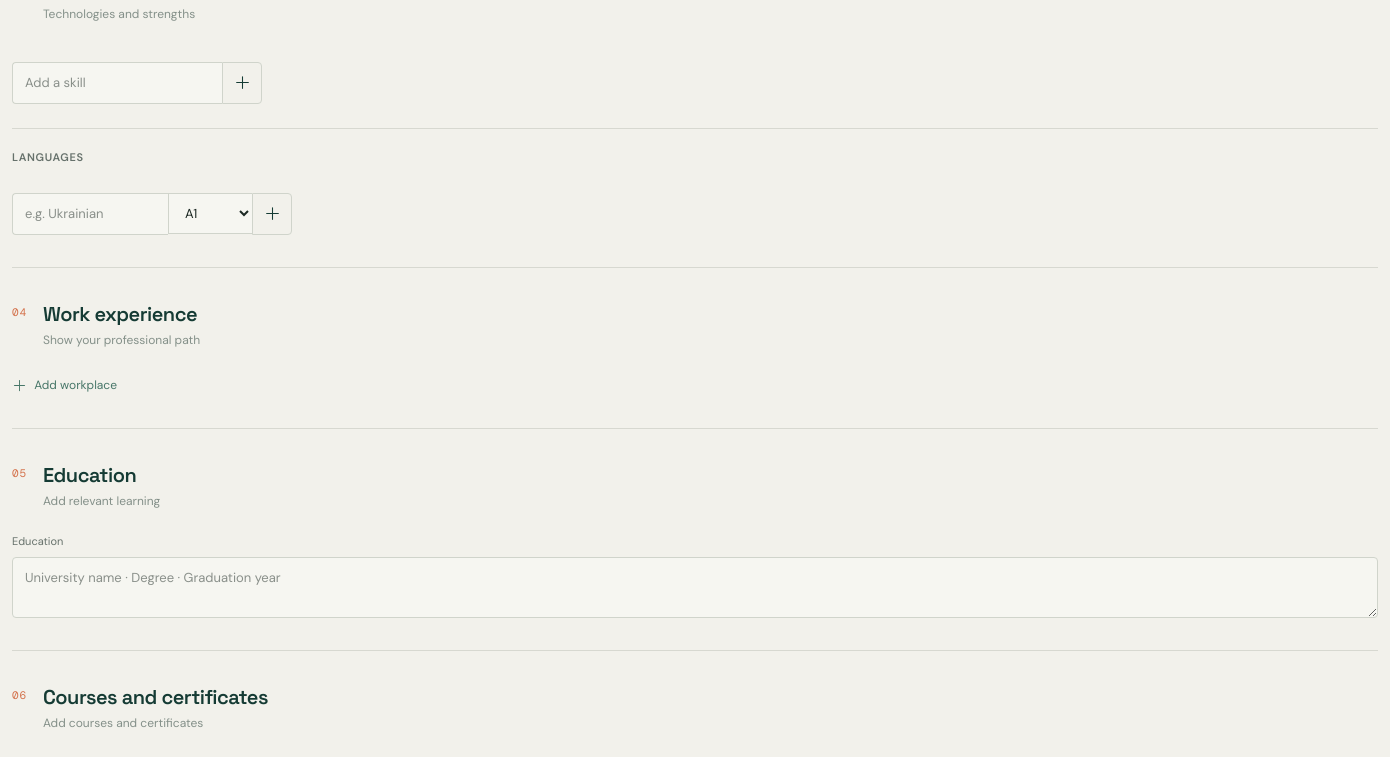
Test: ResumeForm - work experience › adds a new, empty workplace entry
(page scrolled)
Click the button "Add workplace" at (64, 385), box [12, 376, 117, 393]
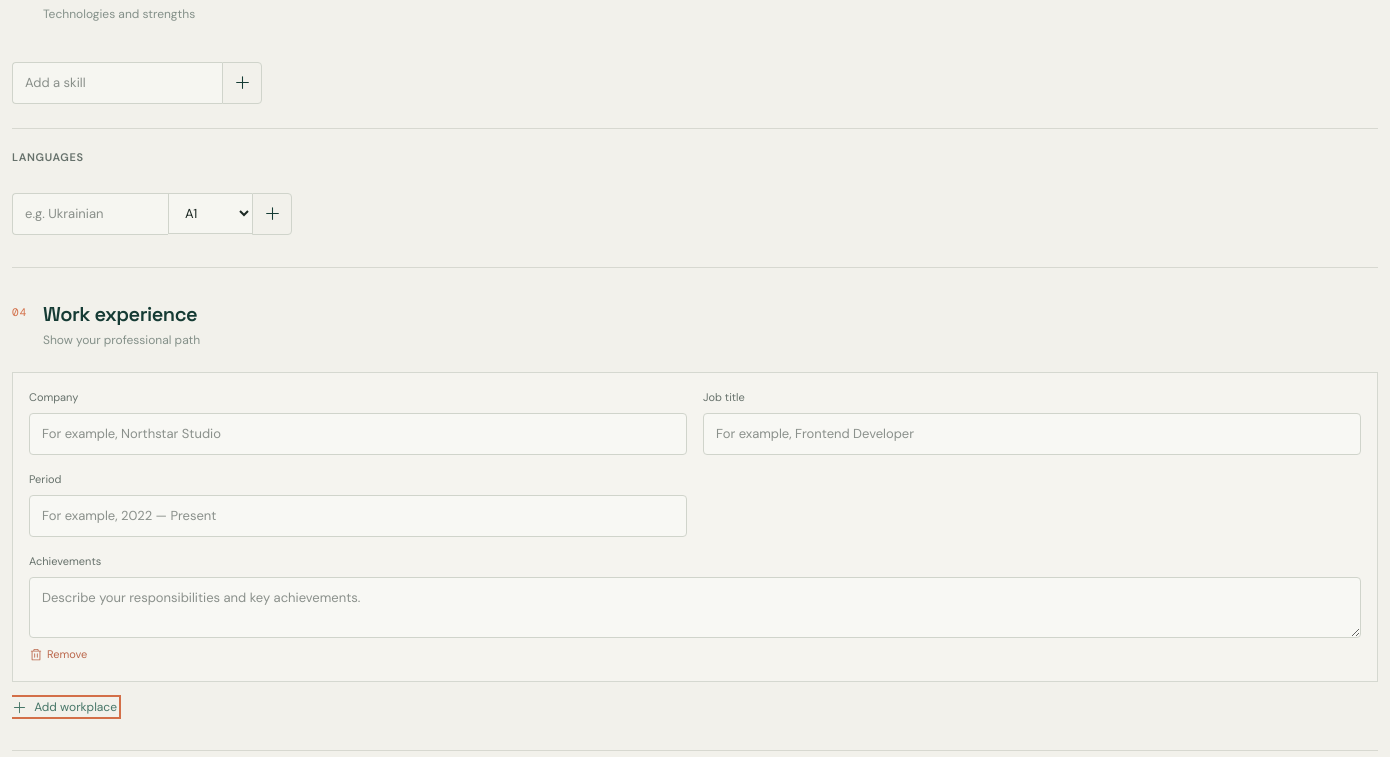
Result: the number of fields labelled "Company" is 1 at [29, 413, 687, 454]
